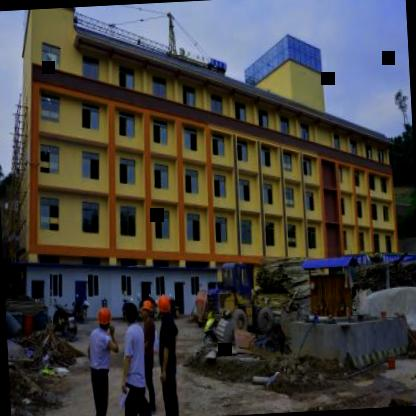head: (119, 298, 140, 328)
helmet: (96, 304, 112, 336), (156, 292, 172, 320), (138, 294, 153, 322)
